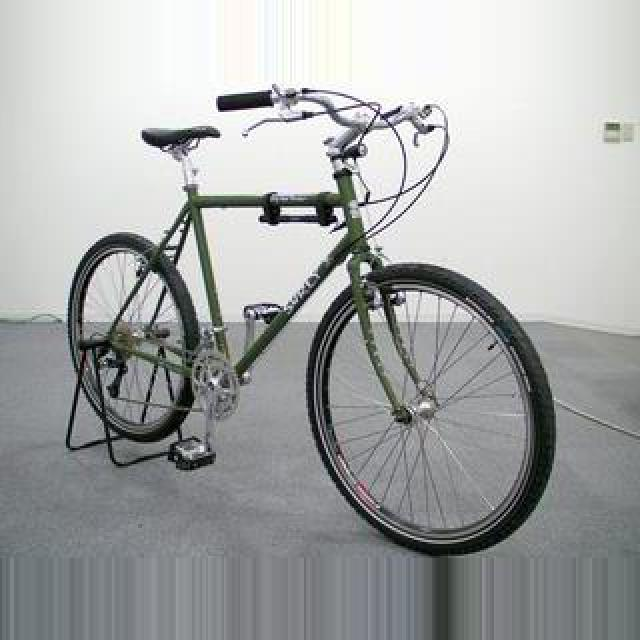Person: (47, 91, 571, 547)
